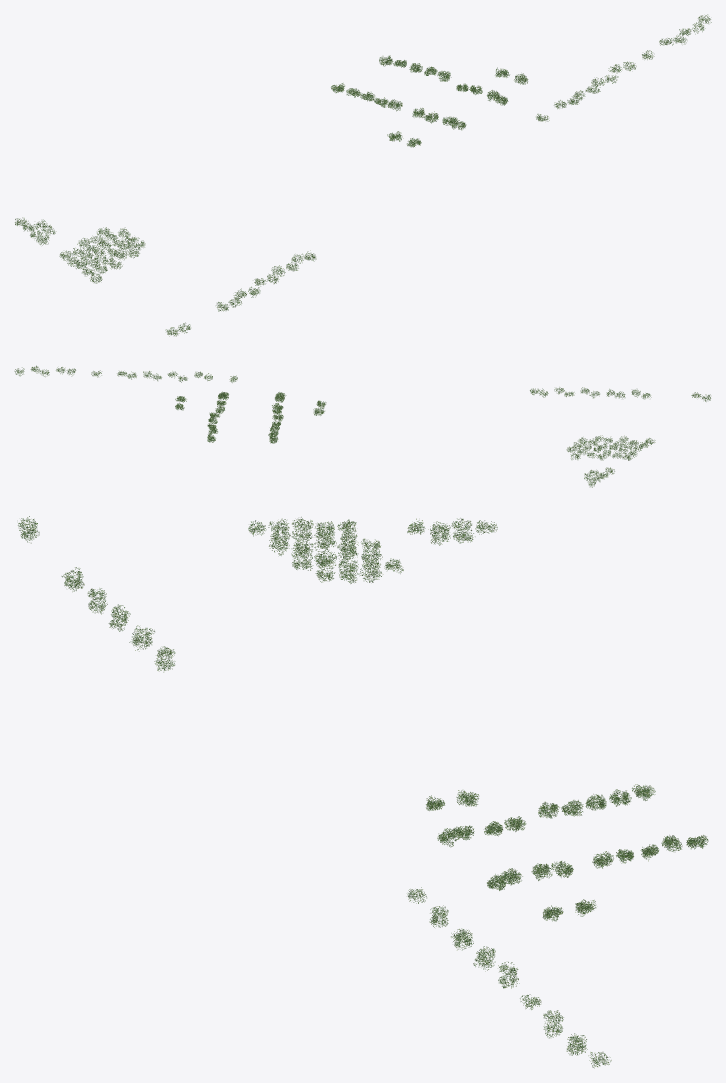
Rendered from vegetation.glb.
3 views of the same model, one above another, from view 1: azimuth 30°, elevation 25°; view 2: azimuth 150°, elevation 25°; view 3: azimuth 270°, elevation 25° (orthographic). The views are drawn at different scales.
Visible parts, largest first — view 1: leaf@-4,1, leaf@0,0, leafLight@-4,1; view 2: leaf@-4,1, leaf@0,0, leafLight@-4,1, leafLight@0,0, leaf@-5,1; view 3: leaf@-4,1, leaf@0,0, leafLight@-4,1, leafLight@0,0.
Part boxes in pixels (box(x1,y1,x2,y2)): leaf@-4,1: box(36, 219, 144, 261); leaf@0,0: box(367, 67, 495, 123); leafLight@-4,1: box(37, 221, 145, 261); leaf@-4,1: box(567, 437, 626, 480); leaf@0,0: box(208, 394, 283, 431); leafLight@-4,1: box(566, 438, 625, 478); leafLight@0,0: box(209, 395, 283, 430); leaf@-5,1: box(589, 450, 637, 481); leaf@-4,1: box(310, 529, 473, 583); leaf@0,0: box(474, 799, 633, 880); leafLight@-4,1: box(311, 530, 473, 583); leafLight@0,0: box(484, 799, 633, 879).
Size of the model in its own units: 785 by 16.55 by 424.
